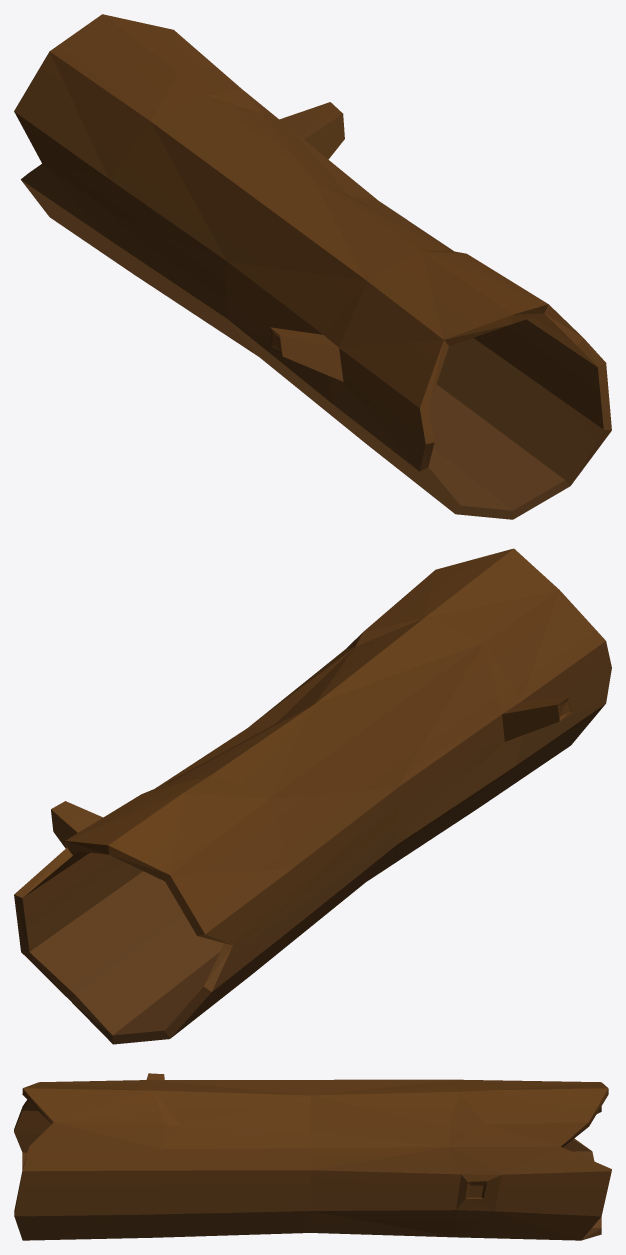
File: Log_01.fbx
The picture shows the model from 3 angles, top to bottom: view 1: azimuth 30°, elevation 25°; view 2: azimuth 150°, elevation 25°; view 3: azimuth 270°, elevation 25°; orthographic projection. The views are drawn at different scales.
Visible parts, largest first — view 1: Log_01; view 2: Log_01; view 3: Log_01.
Part boxes in pixels (box(x1,y1,x2,y2)): Log_01: box(14, 14, 611, 519); Log_01: box(14, 548, 611, 1044); Log_01: box(14, 1073, 611, 1240).
Bounding box in the file's own units: 69.79 × 47.47 × 176.
